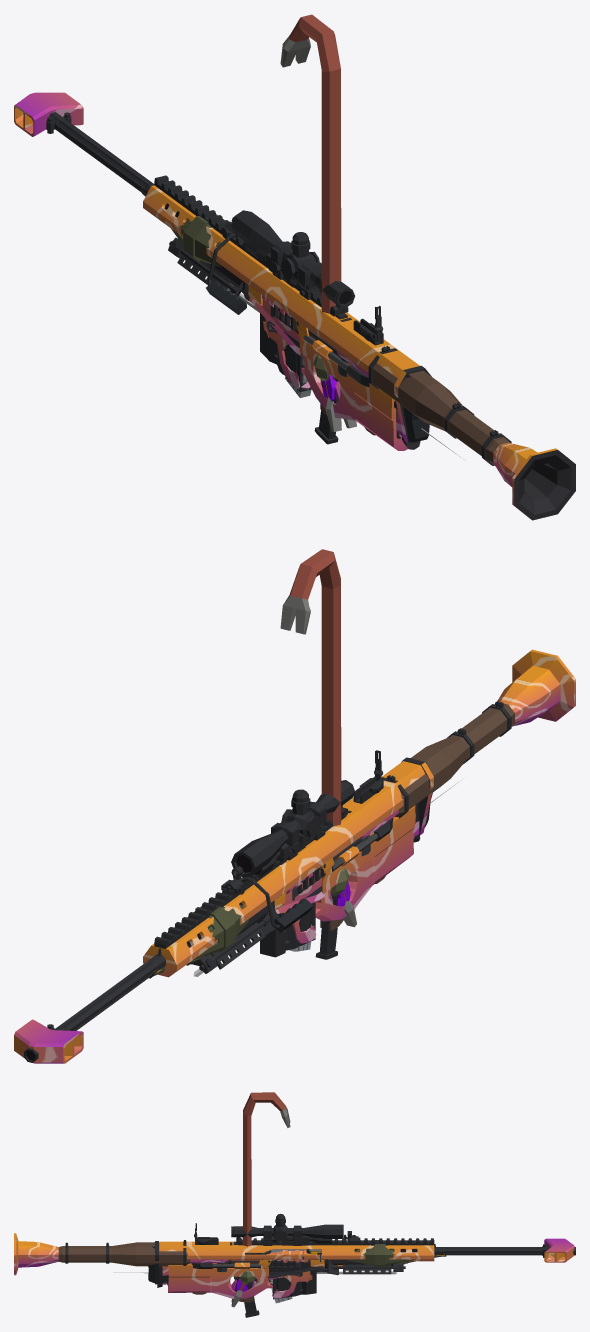
File: weapons.glb
3 views of the same model, one above another, from view 1: azimuth 30°, elevation 25°; view 2: azimuth 150°, elevation 25°; view 3: azimuth 270°, elevation 25° (orthographic). The views are drawn at different scales.
Visible parts, largest first — view 1: SM_Wep_Sniper_Heavy_01, SM_Wep_RPG_01, SM_Wep_Crowbar_01, SM_Wep_SubMGun_01, SM_Wep_Sniper_Heavy_Scope_01, SM_Wep_RPG_Rocket_01, SM_Wep_Sniper_Heavy_Bipod_01, SM_Wep_Sniper_Heavy_Mag_01; view 2: SM_Wep_Sniper_Heavy_01, SM_Wep_RPG_01, SM_Wep_Crowbar_01, SM_Wep_SubMGun_01, SM_Wep_Sniper_Heavy_Scope_01, SM_Wep_Sniper_Heavy_Bipod_01, SM_Wep_RPG_Rocket_01, SM_Wep_Sniper_Heavy_Mag_01; view 3: SM_Wep_Sniper_Heavy_01, SM_Wep_RPG_01, SM_Wep_SubMGun_01, SM_Wep_Crowbar_01, SM_Wep_Sniper_Heavy_Scope_01, SM_Wep_RPG_Rocket_01, SM_Wep_Sniper_Heavy_Bipod_02, SM_Wep_Sniper_Heavy_Mag_01, SM_Wep_Sniper_Scope_01.
Boxes of the visible parts, <box> form: SM_Wep_Sniper_Heavy_01: <box>14,92,431,443</box>; SM_Wep_RPG_01: <box>262,274,575,520</box>; SM_Wep_Crowbar_01: <box>280,14,356,431</box>; SM_Wep_SubMGun_01: <box>254,306,407,450</box>; SM_Wep_Sniper_Heavy_Scope_01: <box>231,210,354,307</box>; SM_Wep_RPG_Rocket_01: <box>171,214,224,267</box>; SM_Wep_Sniper_Heavy_Bipod_01: <box>168,237,242,300</box>; SM_Wep_Sniper_Heavy_Mag_01: <box>260,313,311,392</box>; SM_Wep_Sniper_Heavy_01: <box>14,757,433,1063</box>; SM_Wep_RPG_01: <box>286,649,575,930</box>; SM_Wep_Crowbar_01: <box>280,549,356,927</box>; SM_Wep_SubMGun_01: <box>281,805,415,943</box>; SM_Wep_Sniper_Heavy_Scope_01: <box>231,780,355,877</box>; SM_Wep_Sniper_Heavy_Bipod_01: <box>198,904,278,973</box>; SM_Wep_RPG_Rocket_01: <box>150,904,248,978</box>; SM_Wep_Sniper_Heavy_Mag_01: <box>260,902,315,957</box>; SM_Wep_Sniper_Heavy_01: <box>148,1234,575,1286</box>; SM_Wep_RPG_01: <box>14,1233,307,1302</box>; SM_Wep_SubMGun_01: <box>168,1259,325,1298</box>; SM_Wep_Crowbar_01: <box>231,1092,290,1307</box>; SM_Wep_Sniper_Heavy_Scope_01: <box>231,1213,343,1245</box>; SM_Wep_RPG_Rocket_01: <box>308,1240,446,1266</box>; SM_Wep_Sniper_Heavy_Bipod_02: <box>324,1260,405,1275</box>; SM_Wep_Sniper_Heavy_Mag_01: <box>273,1270,316,1299</box>; SM_Wep_Sniper_Scope_01: <box>263,1235,332,1245</box>.
Size of the model in its own units: 0.1894 by 1.05 by 2.4.
Materials: 6 (3 with a texture image).
